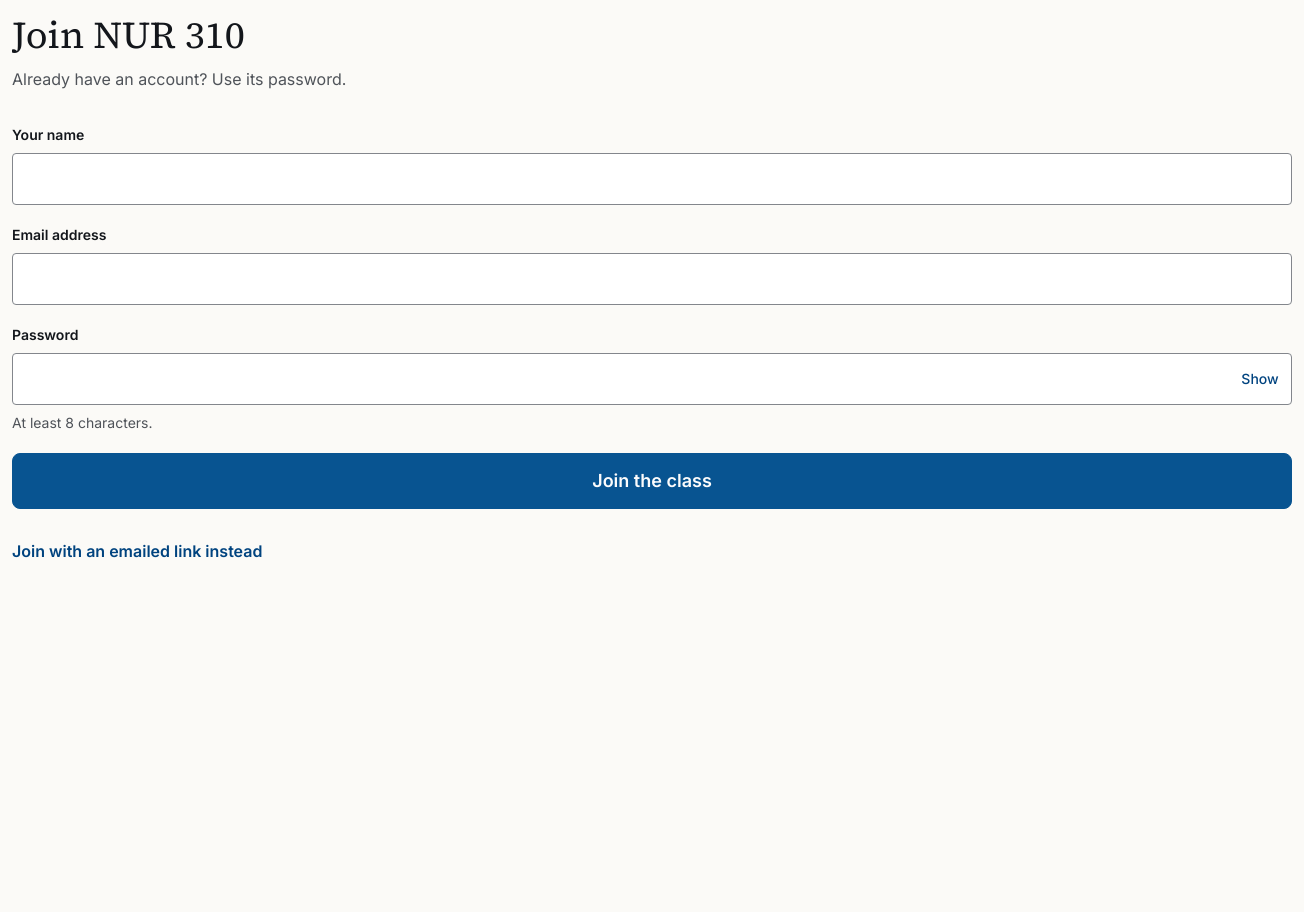
Test: InvitePanel › puts an address error on the email field
The width and height of the screenshot is (1304, 912).
Type "Ana Reyes" into the field labelled "Your name" at (652,179), box top-left (12, 153), bottom-right (1292, 205)
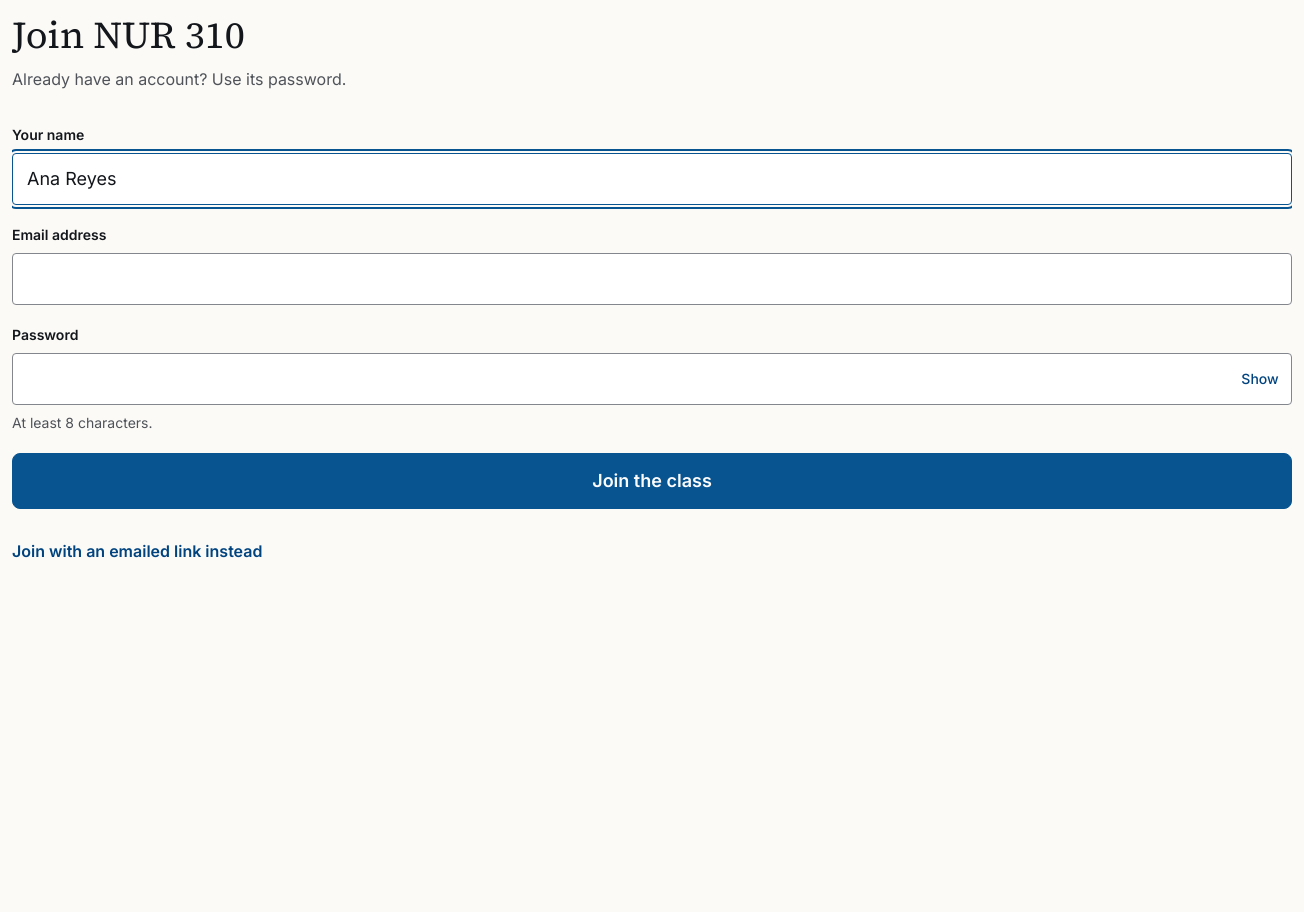
Type "a@b" into the field labelled "Email address" at (652,279), box top-left (12, 253), bottom-right (1292, 305)
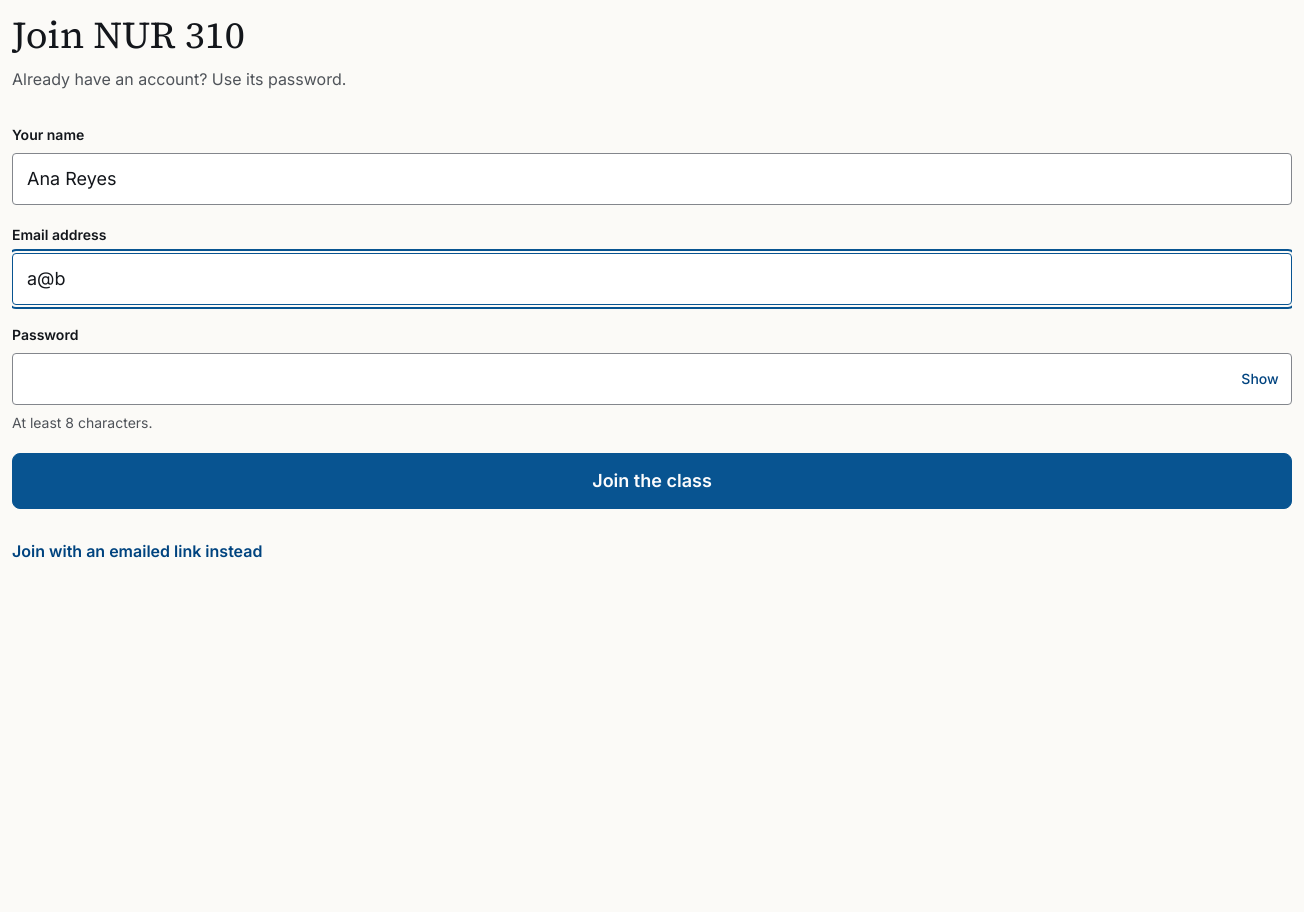
Type "correct horse" into the password field labelled "Password" at (652,379), box top-left (12, 353), bottom-right (1292, 405)
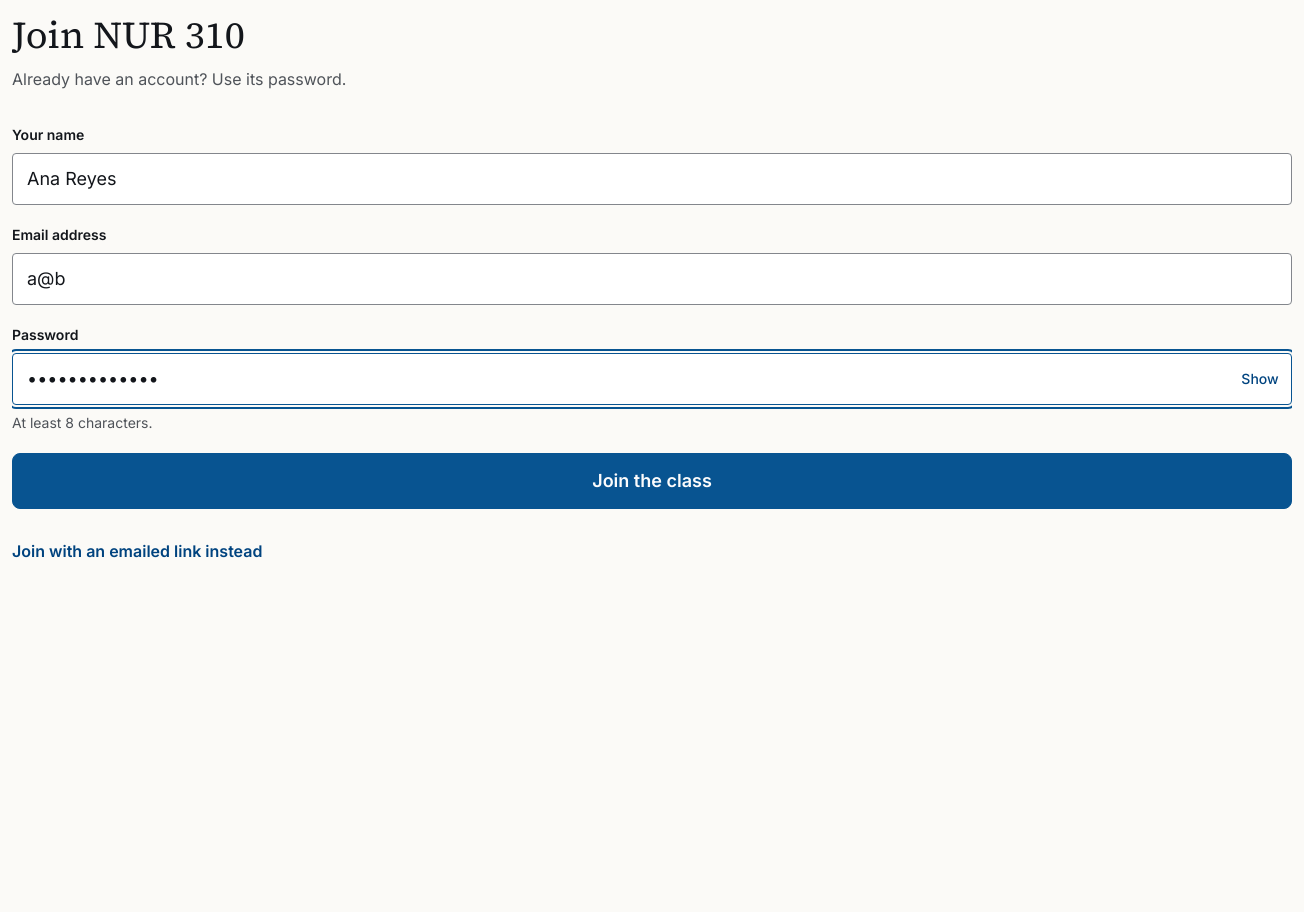
Click the button "Join the class" at (652,481), box top-left (12, 453), bottom-right (1292, 509)
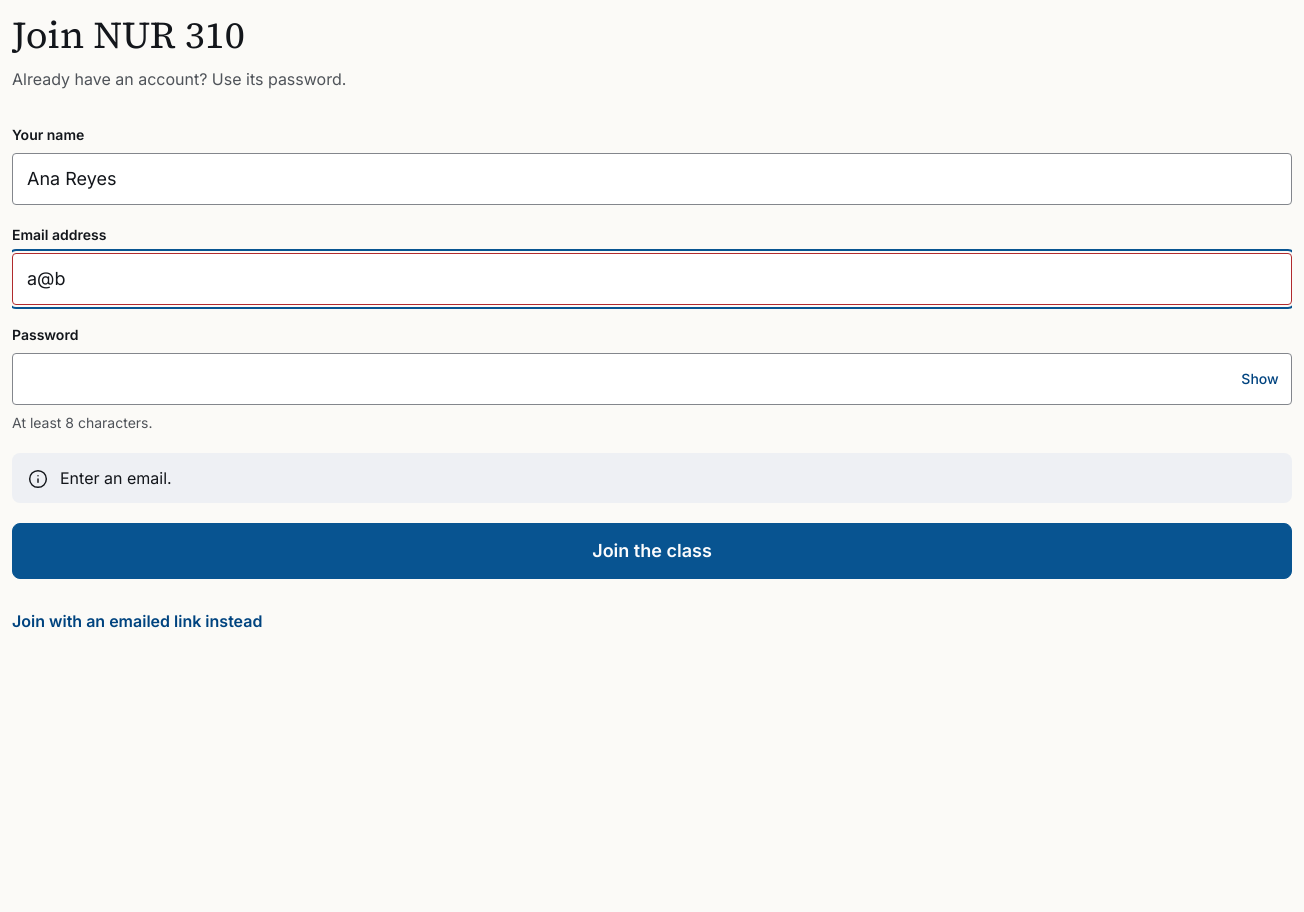
Expected: the message "Enter an email." is shown, top-left (12, 453), bottom-right (1292, 503)
